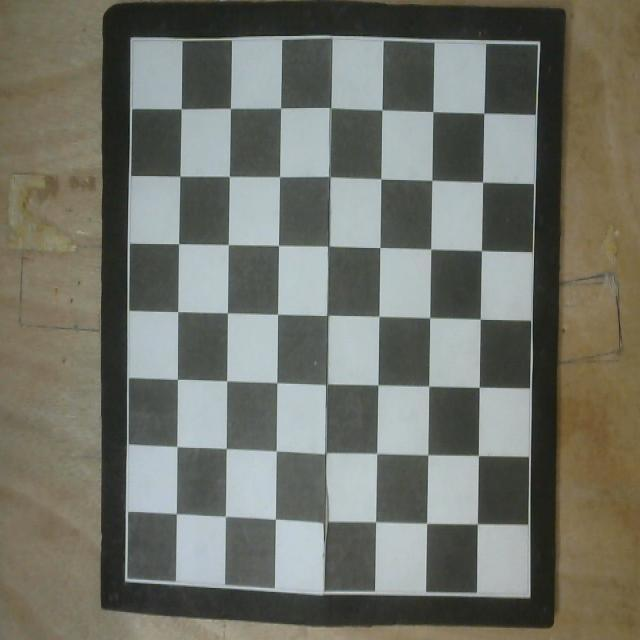chess-table-corners: (124, 575, 130, 584), (526, 591, 532, 600), (536, 39, 542, 47), (128, 34, 134, 42)
